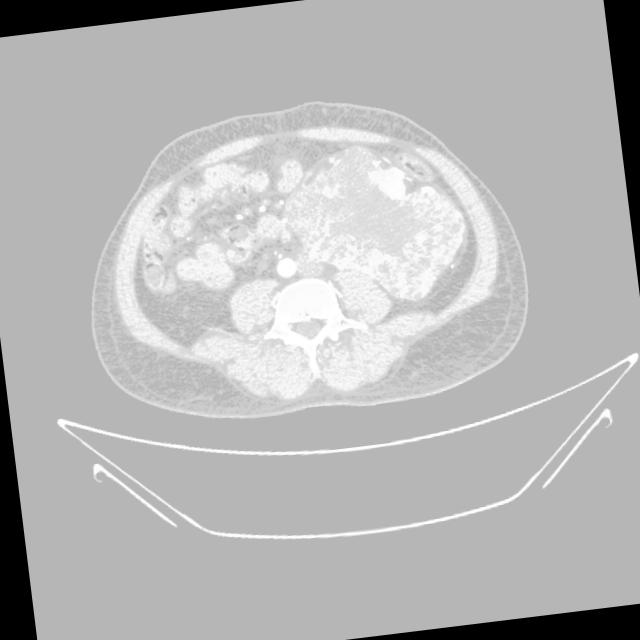TUMOR: (134, 144, 444, 280)
